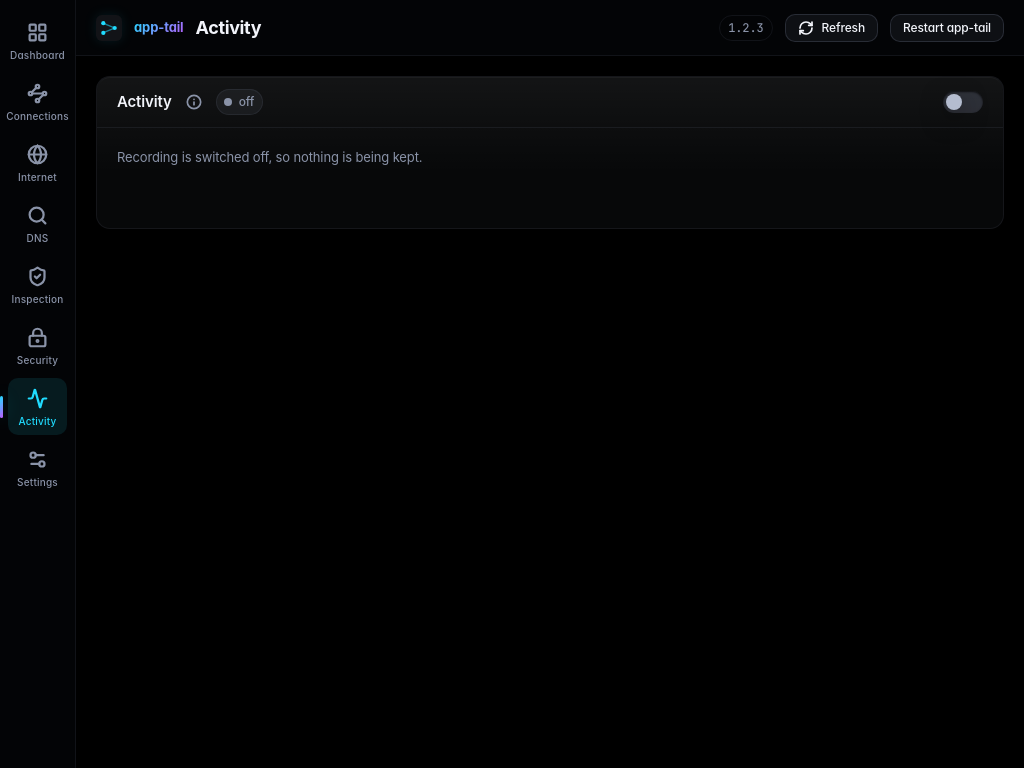
Scenario: the activity page › turns recording on from the page that shows it
Click the checkbox named "Keep a log of what this app does" at {"x": 963, "y": 102}, box [943,91,983,113]
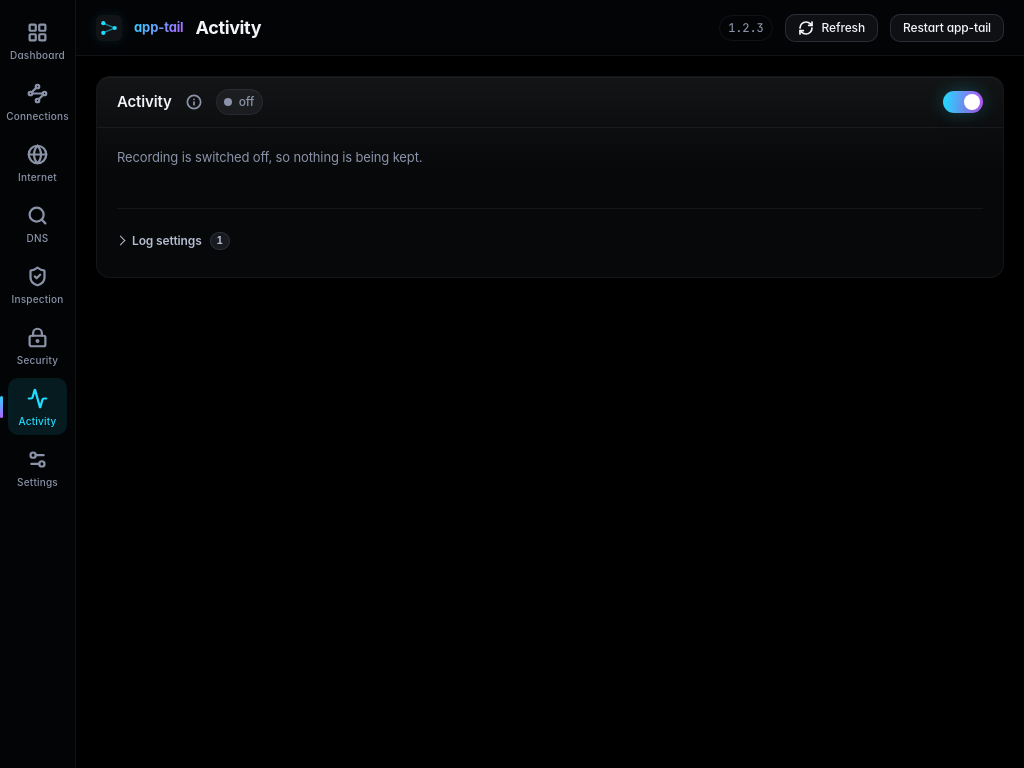
Check: the heading "Log settings 1" is shown, box [132,232,230,250]
